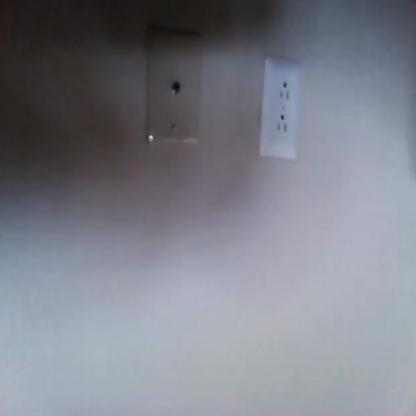OUTLET: (262, 59, 304, 159)
